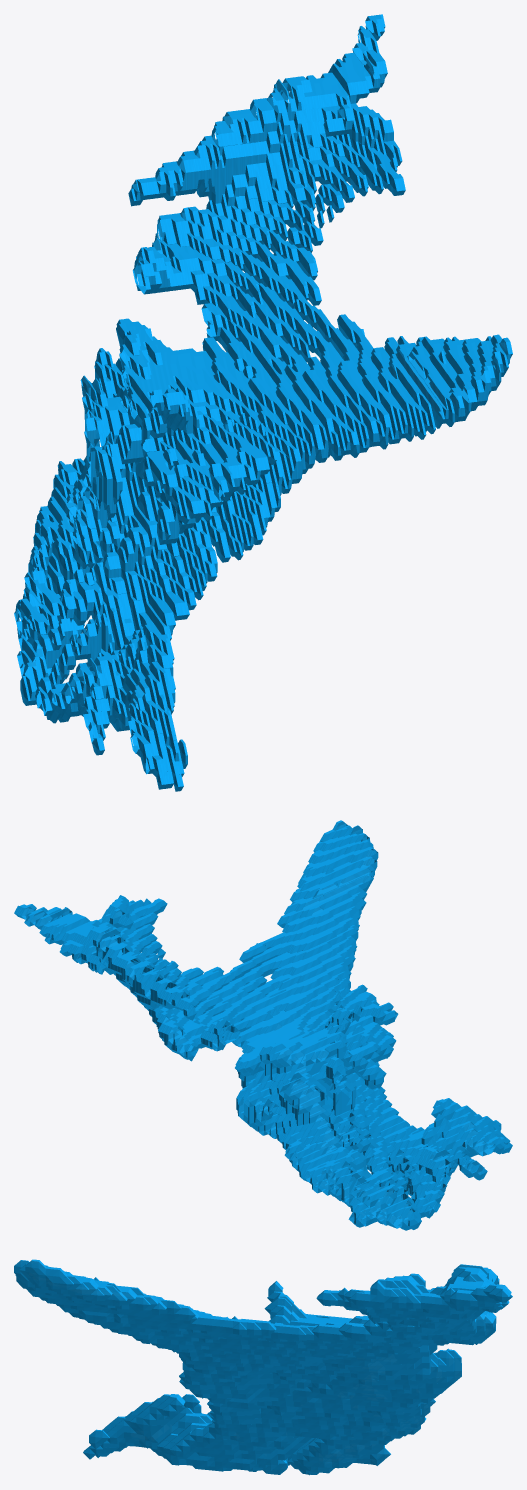
File: SVV_BWM-DL02.gltf
The picture shows the model from 3 angles, top to bottom: view 1: azimuth 30°, elevation 25°; view 2: azimuth 150°, elevation 25°; view 3: azimuth 270°, elevation 25°; orthographic projection. The views are drawn at different scales.
Parts seen in each view (by area): view 1: BWM-DL02; view 2: BWM-DL02; view 3: BWM-DL02.
Boxes of the visible parts, box(x1,y1,x2,y2) form: BWM-DL02: box(14, 14, 512, 791); BWM-DL02: box(14, 820, 512, 1230); BWM-DL02: box(14, 1259, 512, 1475).
Size of the model in its own units: 40407 by 36279 by 45927.
